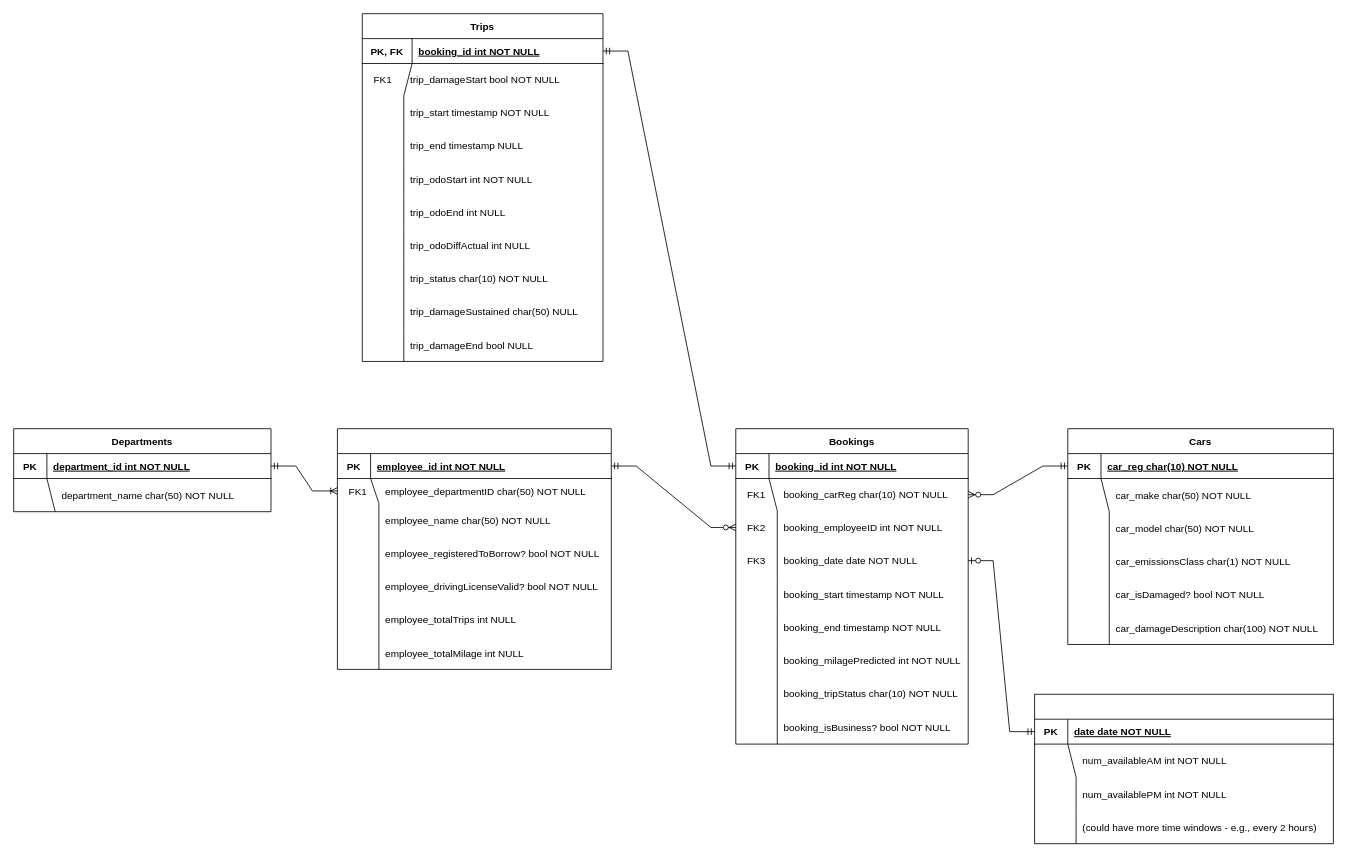
The diagram is 1347 pixels wide and 857 high, and some of its shapes have lost their labels. Here are the shapes that lost their labels. From the top down, the box of each, then its label:
(337, 428, 611, 669): Employeees
(1034, 693, 1333, 844): CarAvailability
